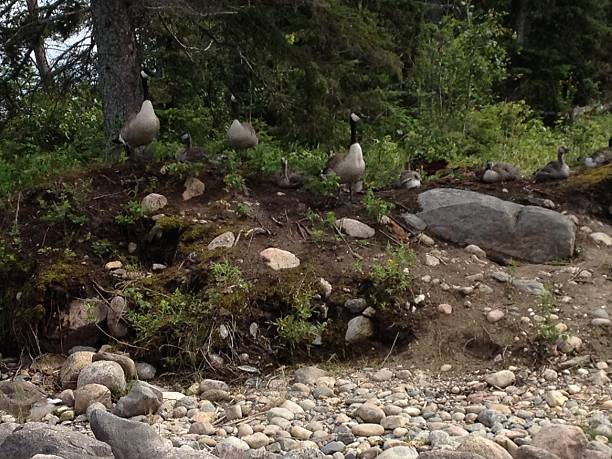goose: (115, 65, 162, 150), (319, 109, 365, 193), (222, 90, 259, 151), (533, 145, 574, 182), (170, 130, 204, 162)
